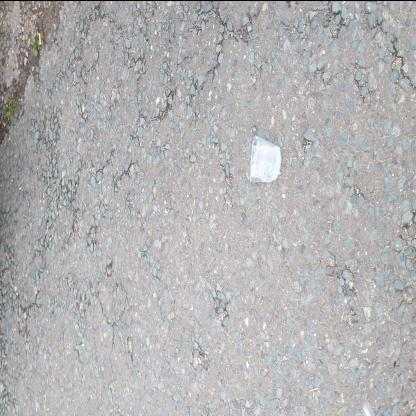plastik: (250, 134, 282, 182)
